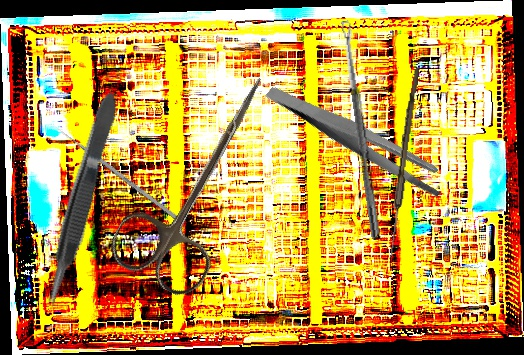Dressing Forceps: (264, 46, 452, 231)
Iris Scissors: (103, 52, 300, 304)
Pusher: (52, 123, 178, 220)
Surgical Spoon: (341, 19, 382, 241), (387, 67, 420, 258)
Tissue Forceps: (35, 88, 127, 313)
